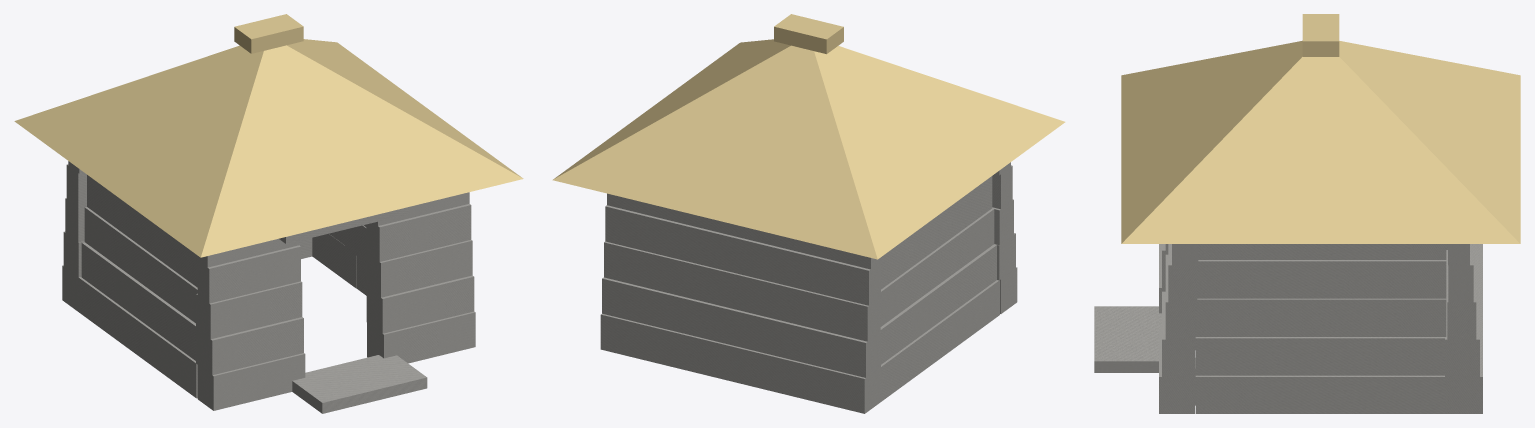
Rendered from andean-terraces-and-stone-village-stone-field-hut-81ca5606__38246.glb.
3 renders of one model, left to right at view 1: azimuth 30°, elevation 25°; view 2: azimuth 150°, elevation 25°; view 3: azimuth 270°, elevation 25°, orthographic. The views are drawn at different scales.
Visible parts, largest first — view 1: stone-field-hut-thatch, stone-field-hut-stone; view 2: stone-field-hut-thatch, stone-field-hut-stone; view 3: stone-field-hut-thatch, stone-field-hut-stone.
Boxes of the visible parts, x1,y1,x2,y2 form: stone-field-hut-thatch: (14, 14, 523, 257); stone-field-hut-stone: (62, 161, 475, 413); stone-field-hut-thatch: (552, 14, 1065, 259); stone-field-hut-stone: (600, 162, 1017, 413); stone-field-hut-thatch: (1121, 14, 1520, 243); stone-field-hut-stone: (1094, 244, 1482, 413).
Size of the model in its own units: 3.7 by 3.25 by 3.95.
Materials: 2 (1 with a texture image).
